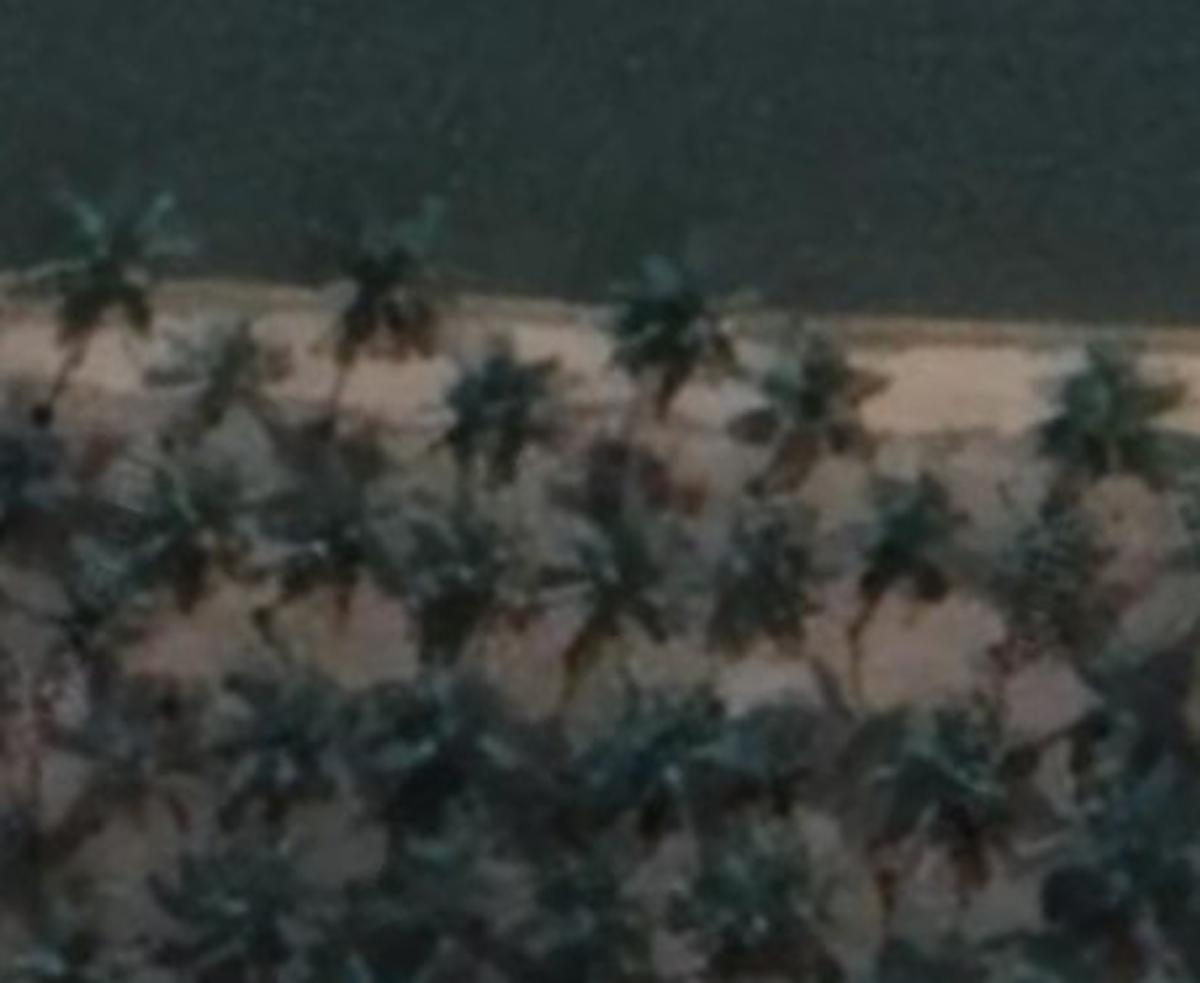coconut: (304, 193, 484, 370), (596, 235, 786, 402), (1003, 320, 1173, 479), (15, 180, 193, 328), (550, 508, 701, 662), (193, 654, 344, 802), (423, 336, 577, 455), (847, 471, 980, 596), (765, 331, 887, 461), (402, 495, 516, 612)
